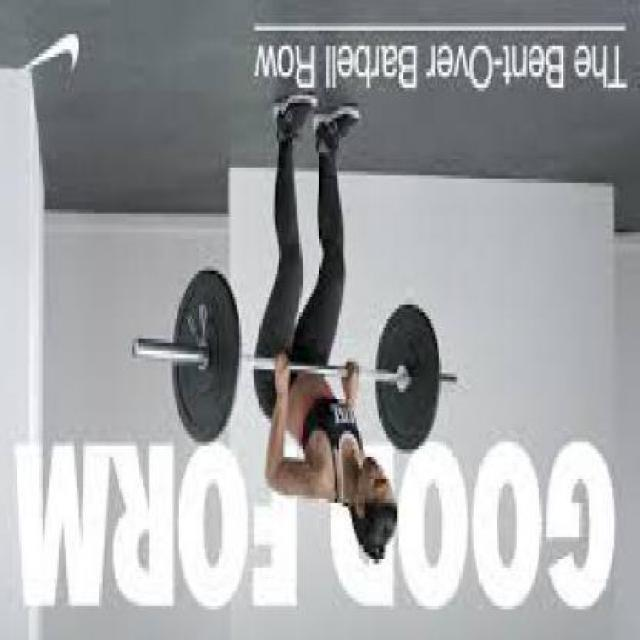Barbell: (125, 328, 147, 370)
